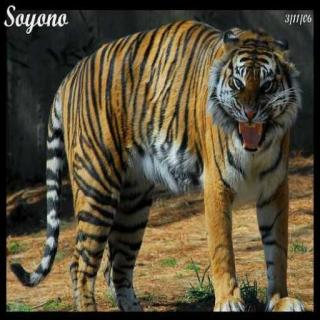Tiger: (26, 18, 307, 312)
